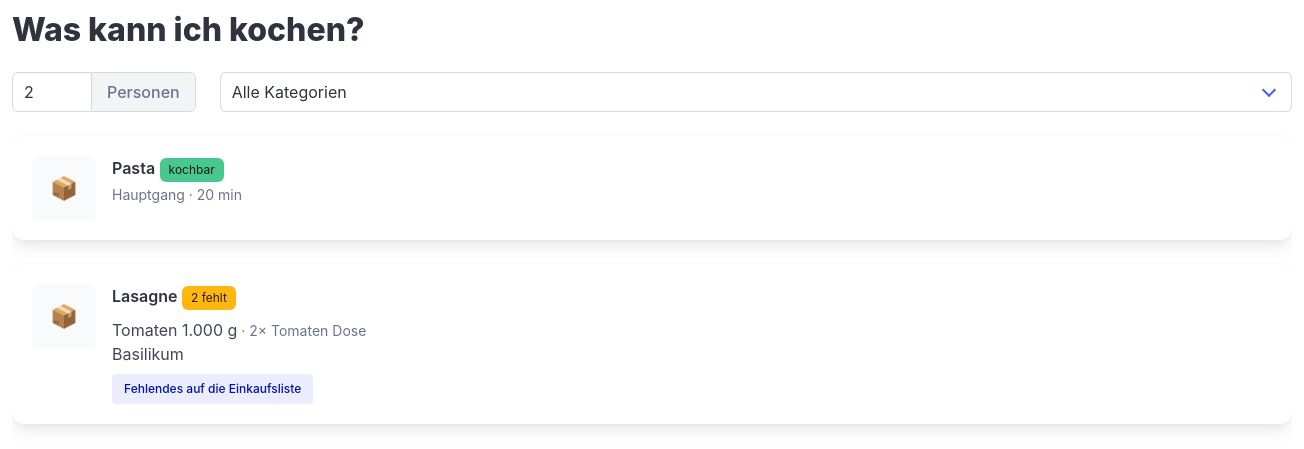
Test: CookPage › shows what can be cooked and puts missing ingredients on the list
expect the text "kochbar" is shown: met, box 160,158 -> 224,182
expect the text "Hauptgang · 20 min" is shown: met, box 112,186 -> 242,203
Replace the text in the number field named "Personen" with "4" at (52, 92), box 12,72 -> 92,112
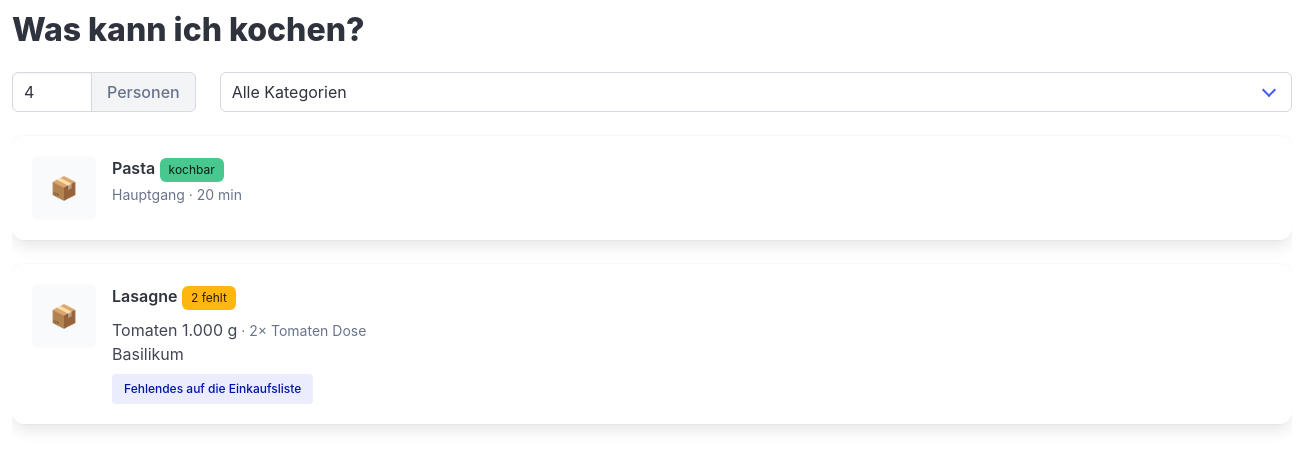
Select "Hauptgang" in the dropdown named "Rezeptkategorie" at (756, 92), box 220,72 -> 1292,112
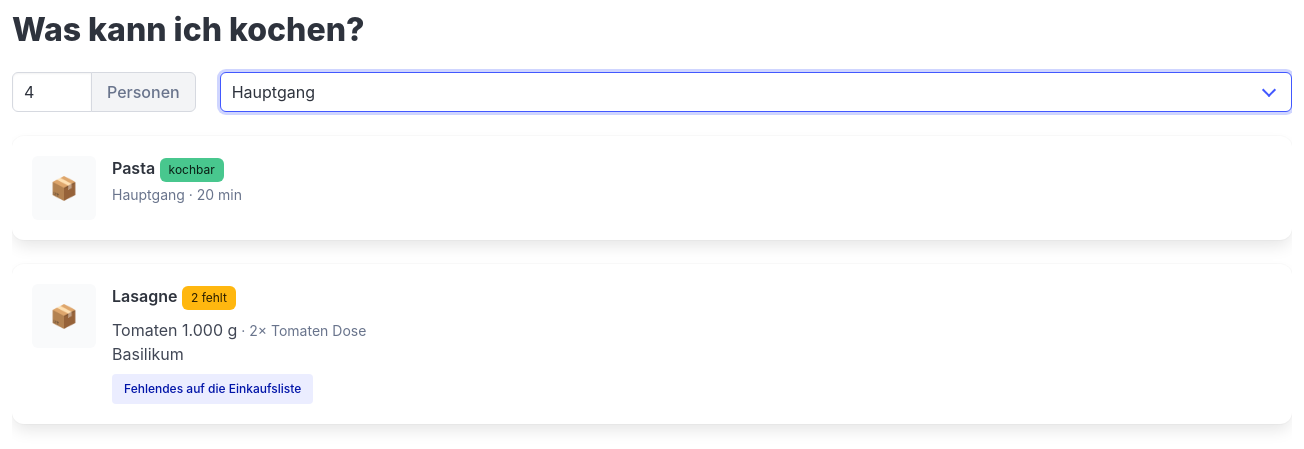
Replace the text in the number field named "Personen" with "0" at (52, 92), box 12,72 -> 92,112
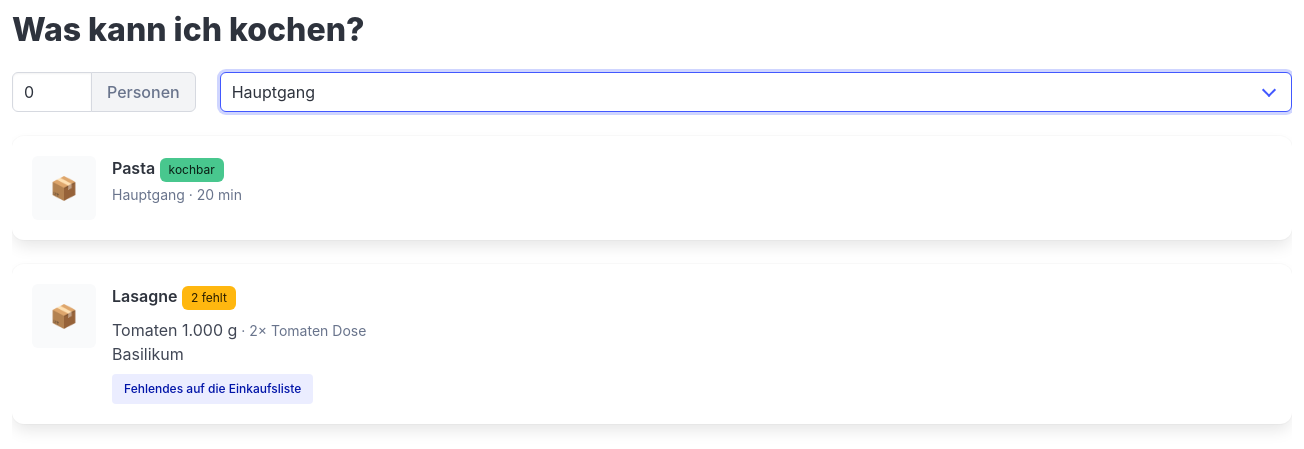
Replace the text in the number field named "Personen" with "4" at (52, 92), box 12,72 -> 92,112
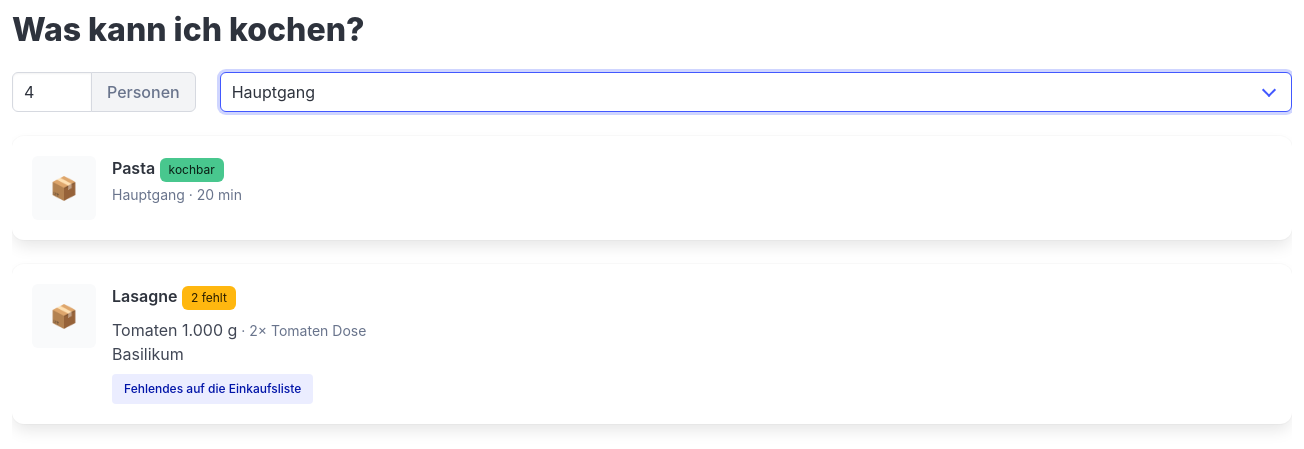
Click the button "Fehlendes auf die Einkaufsliste".
click(213, 389)  # box 112,374 -> 313,404
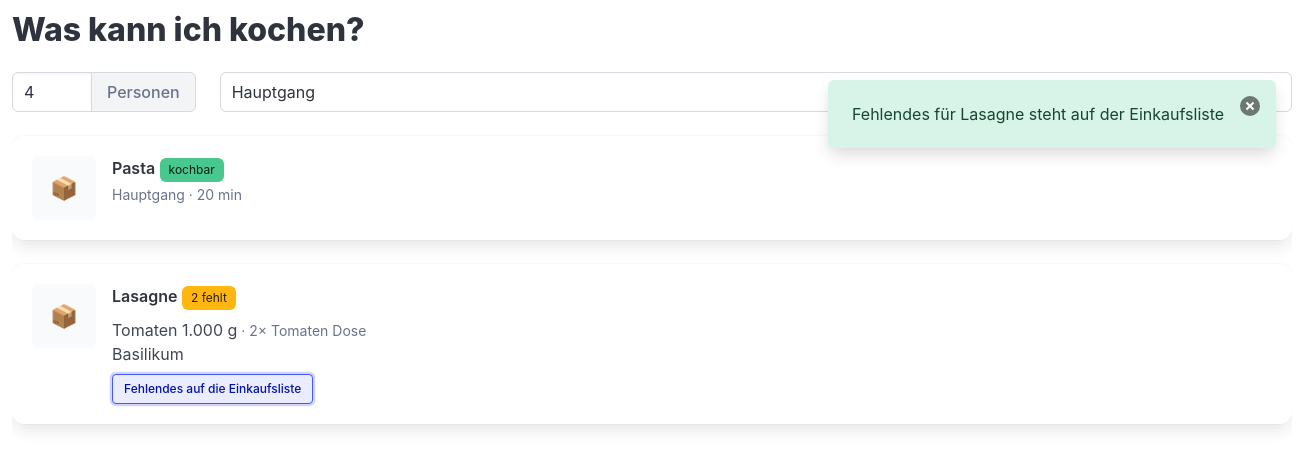
expect the text "Fehlendes für Lasagne steht auf der Einkaufsliste" is shown: met, box 828,80 -> 1276,148
Click the button "Fehlendes auf die Einkaufsliste".
click(213, 389)  # box 112,374 -> 313,404
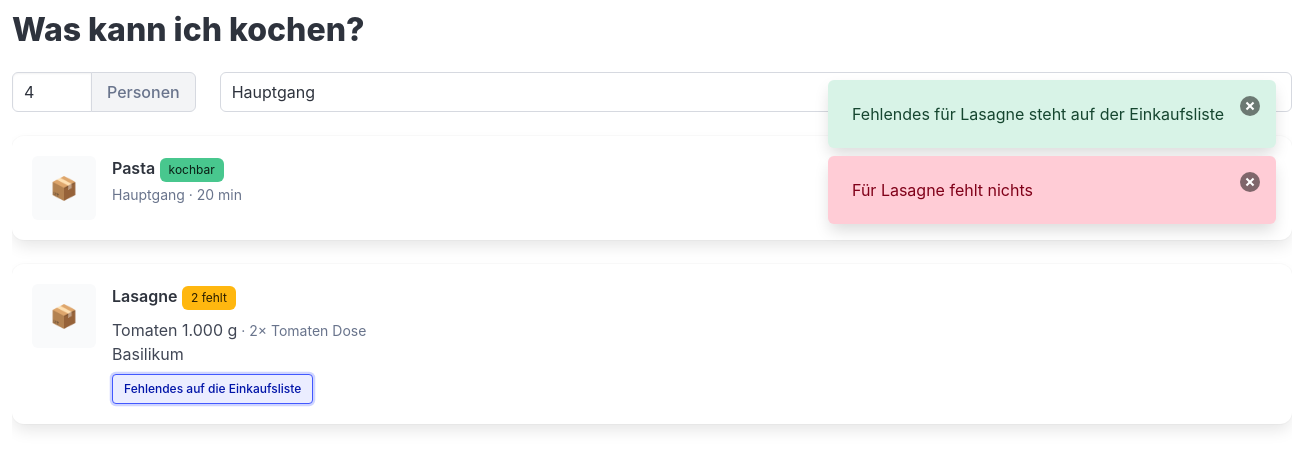
expect the text "Für Lasagne fehlt nichts" is shown: met, box 828,156 -> 1276,224
